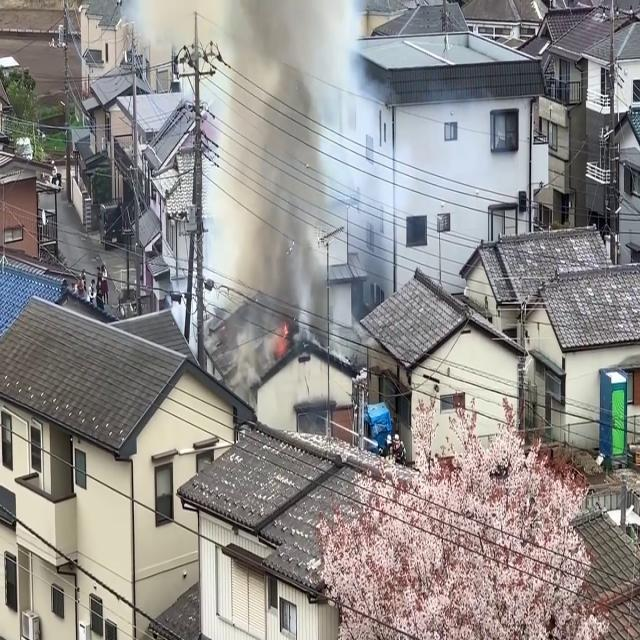Smoke: (212, 0, 392, 376)
